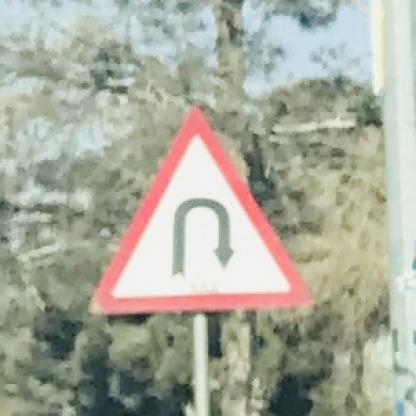U-Turn: (84, 101, 312, 311)
